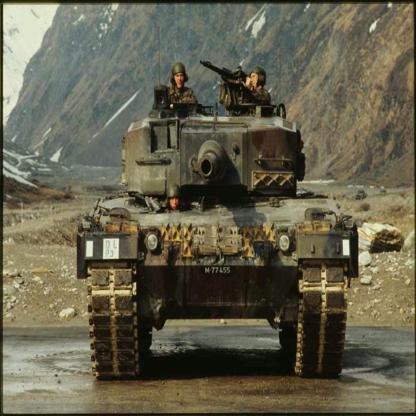Tank: (75, 60, 370, 393)
